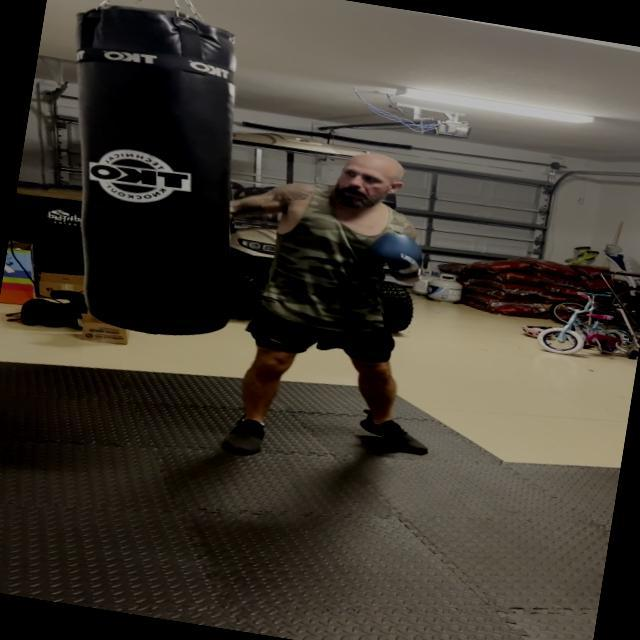bag: (61, 0, 251, 339)
hook: (179, 106, 436, 300)
